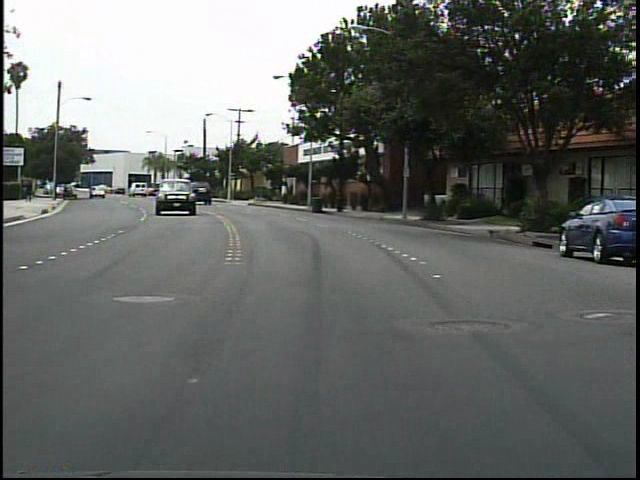person: (22, 183, 34, 204)
